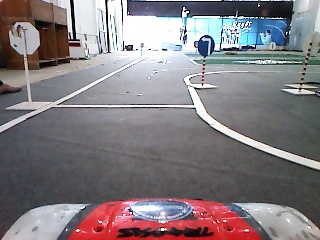turn_left: (198, 35, 215, 56)
